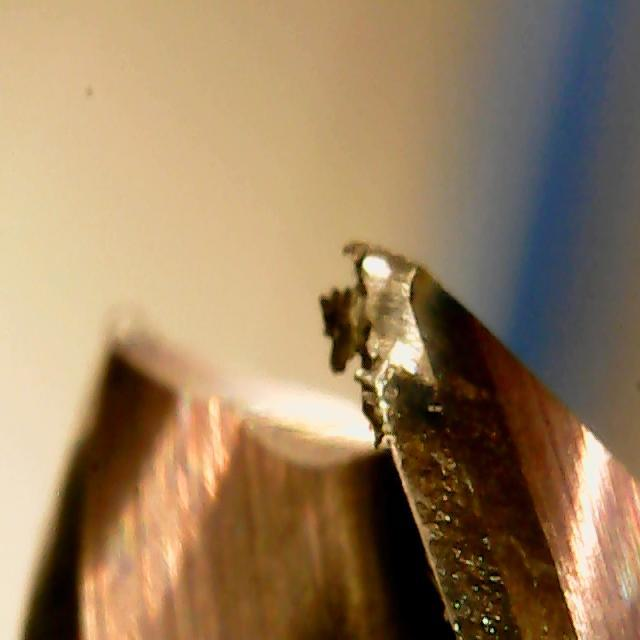Tool-wear-class-2: (325, 225, 489, 605)
